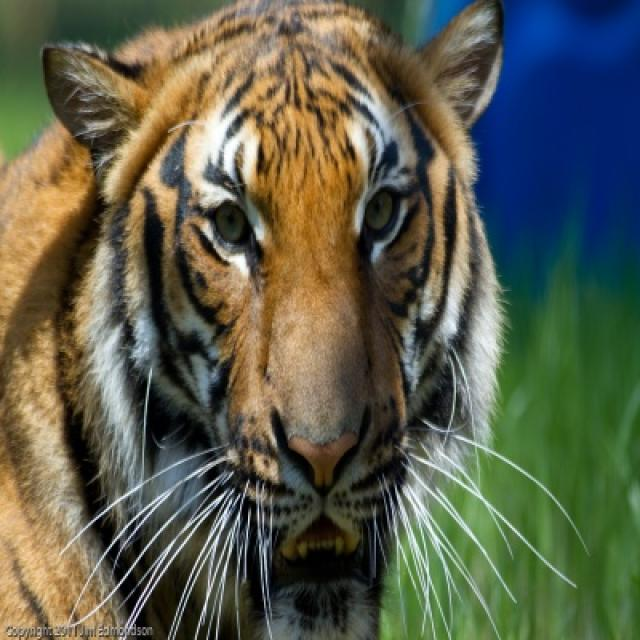Tiger: (26, 7, 517, 559)
